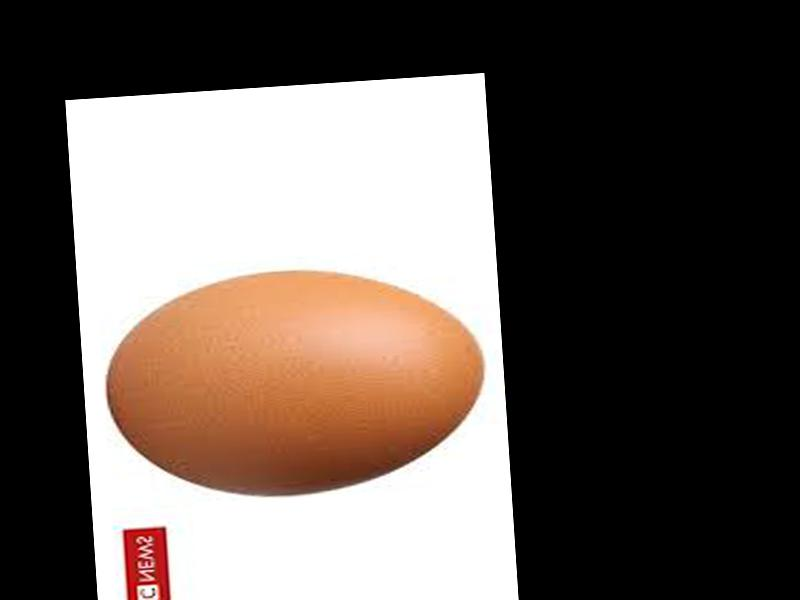Eggs: (101, 258, 488, 506)
